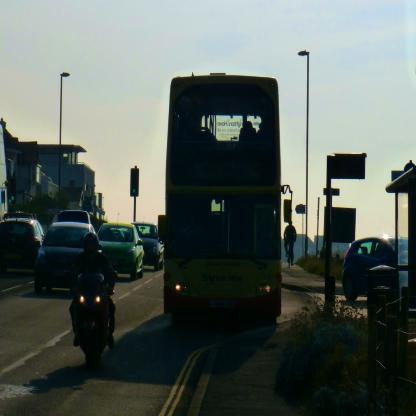Bus: (156, 71, 292, 325)
